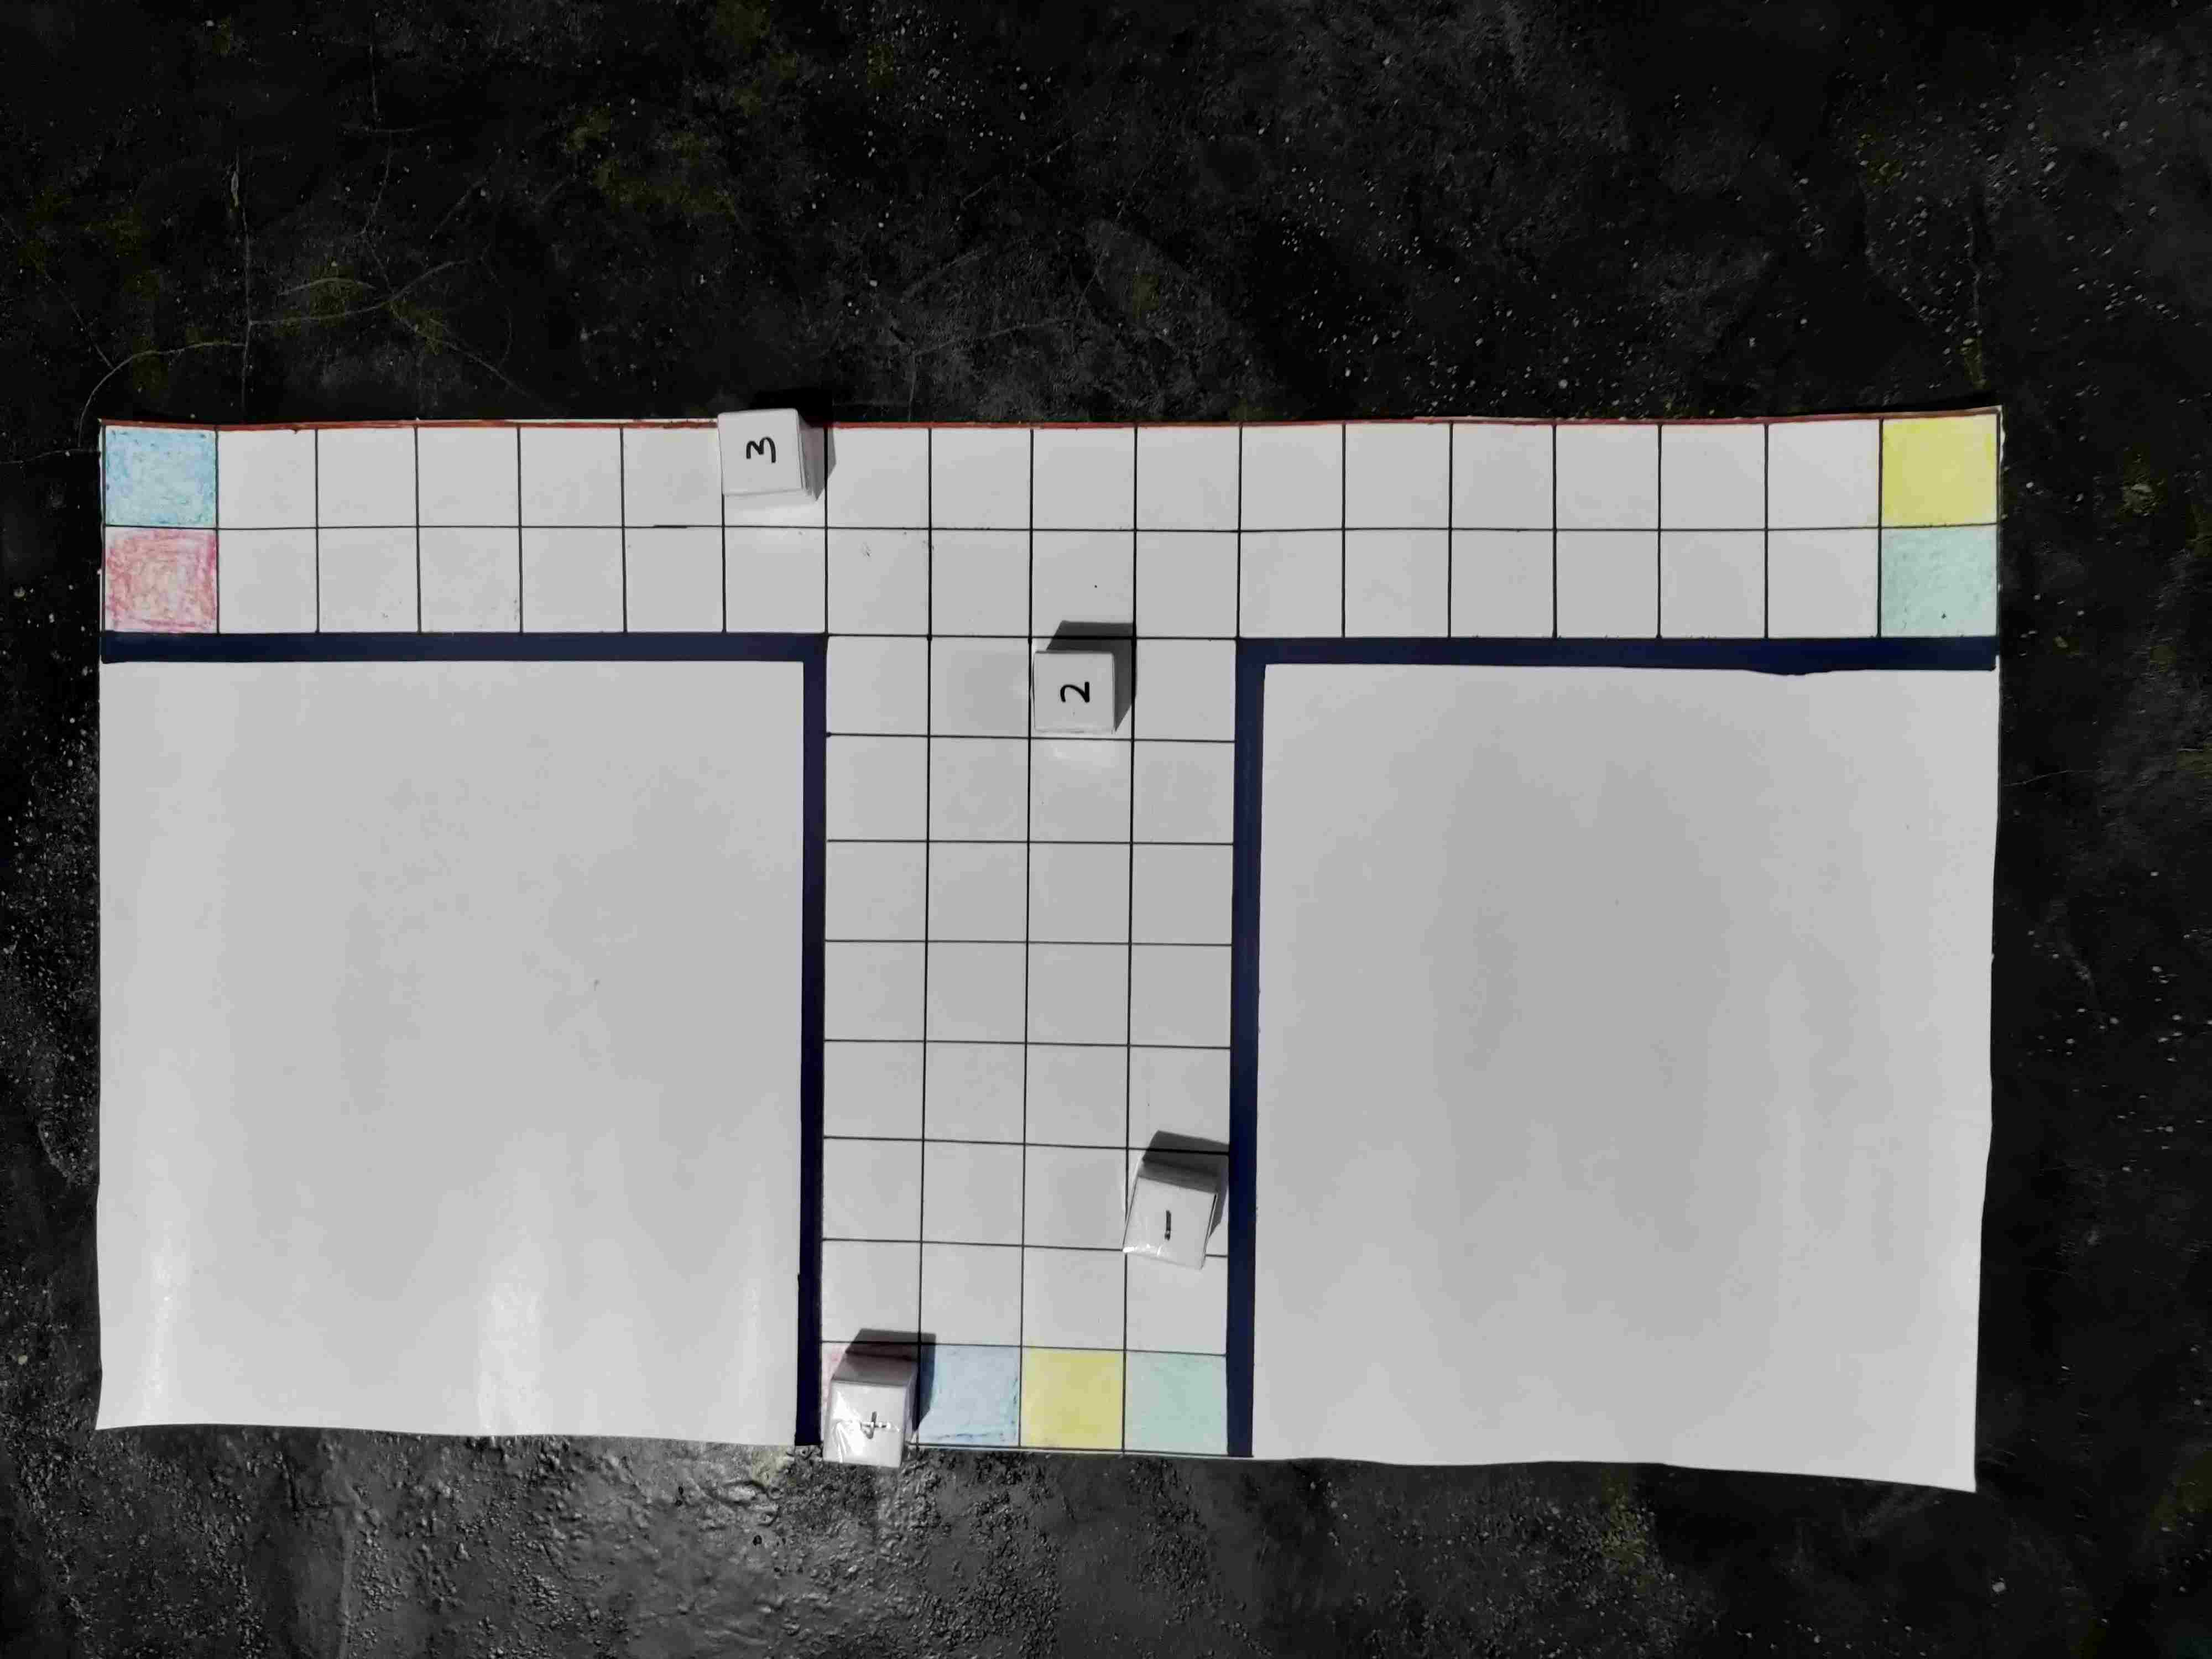arena: (103, 413, 1979, 1467)
bot: (827, 1382, 909, 1488), (714, 403, 805, 498), (1120, 1180, 1216, 1262), (1031, 650, 1116, 734)
